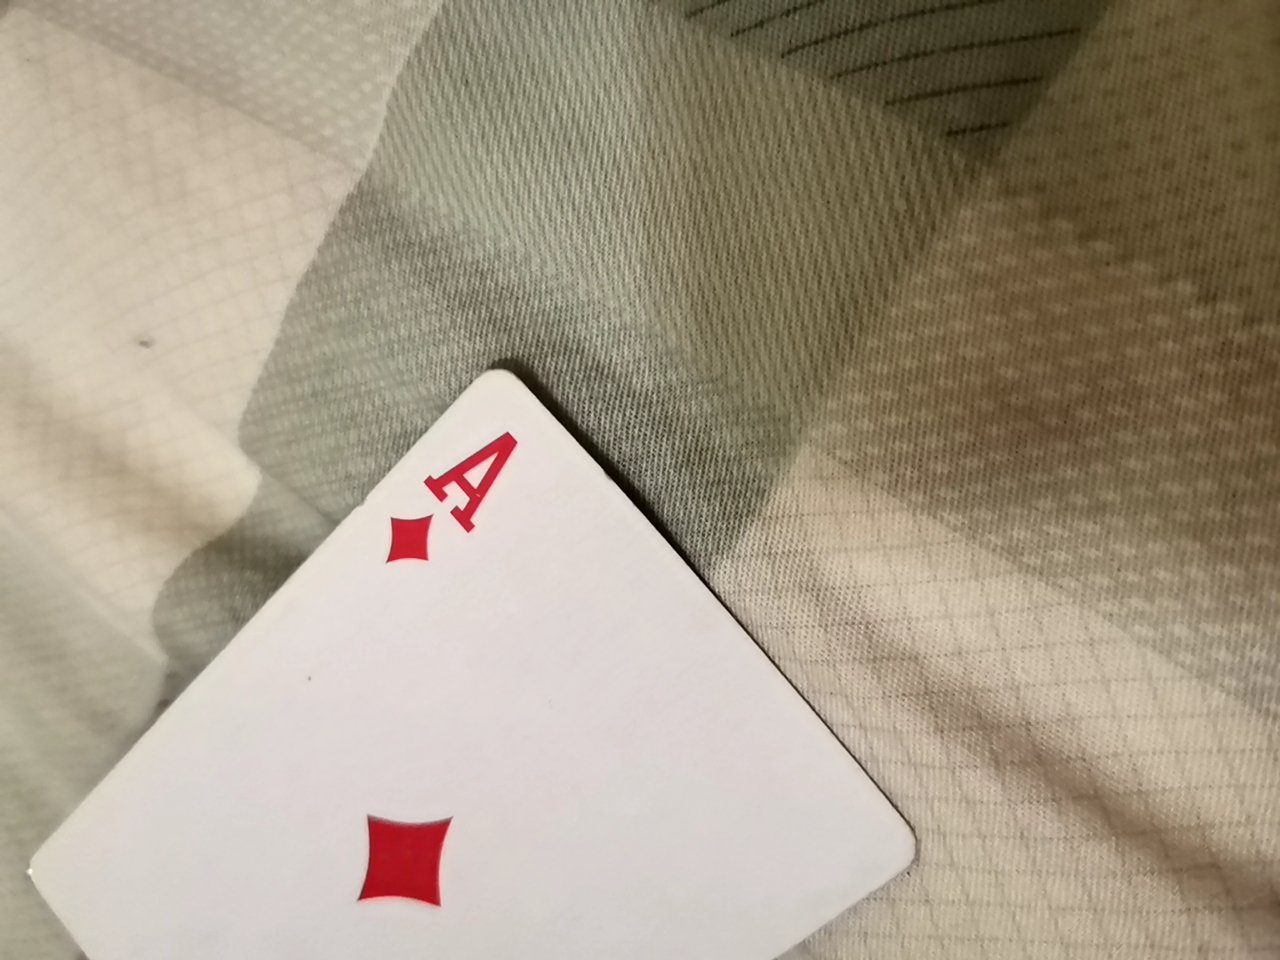fk a: (10, 364, 934, 959)
